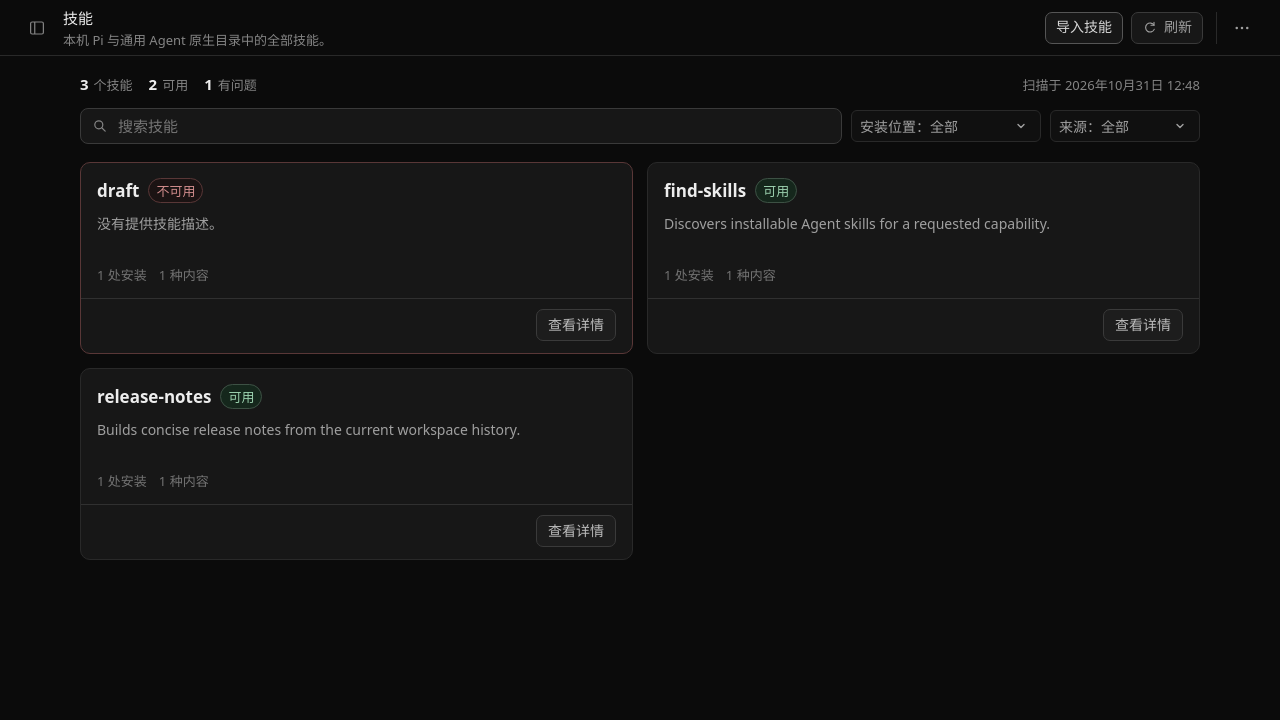
Test case: SkillsView management acceptance › keeps cards compact and moves metadata and locations into details
This screenshot has width=1280, height=720.
Check: the number of elements with class "skill-card" is 3, box [80,162,633,354]; [647,162,1200,354]; [80,368,633,560]
Check: the element with class "skill-card" shows "1 处安装", box [664,266,714,284]
Click the 2nd button "查看详情" at (1143, 325), box [1103,309,1183,341]
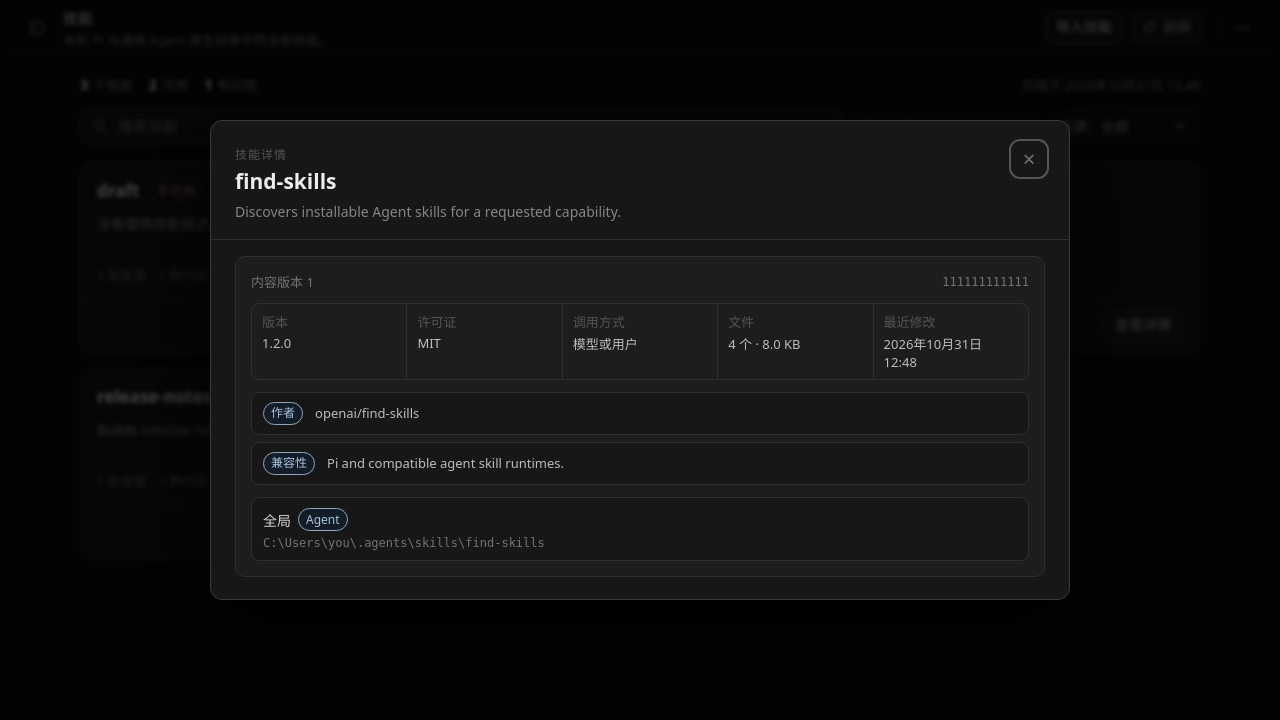
Check: the dialog with class "skill-detail-dialog" shows "1.2.0", box [262,334,291,352]
Check: the dialog with class "skill-detail-dialog" shows "MIT", box [417,334,441,352]
Check: the dialog with class "skill-detail-dialog" shows "4 个 · 8.0 KB", box [728,335,800,353]
Click the button "×" at (1029, 159), box [1013,143,1045,175]
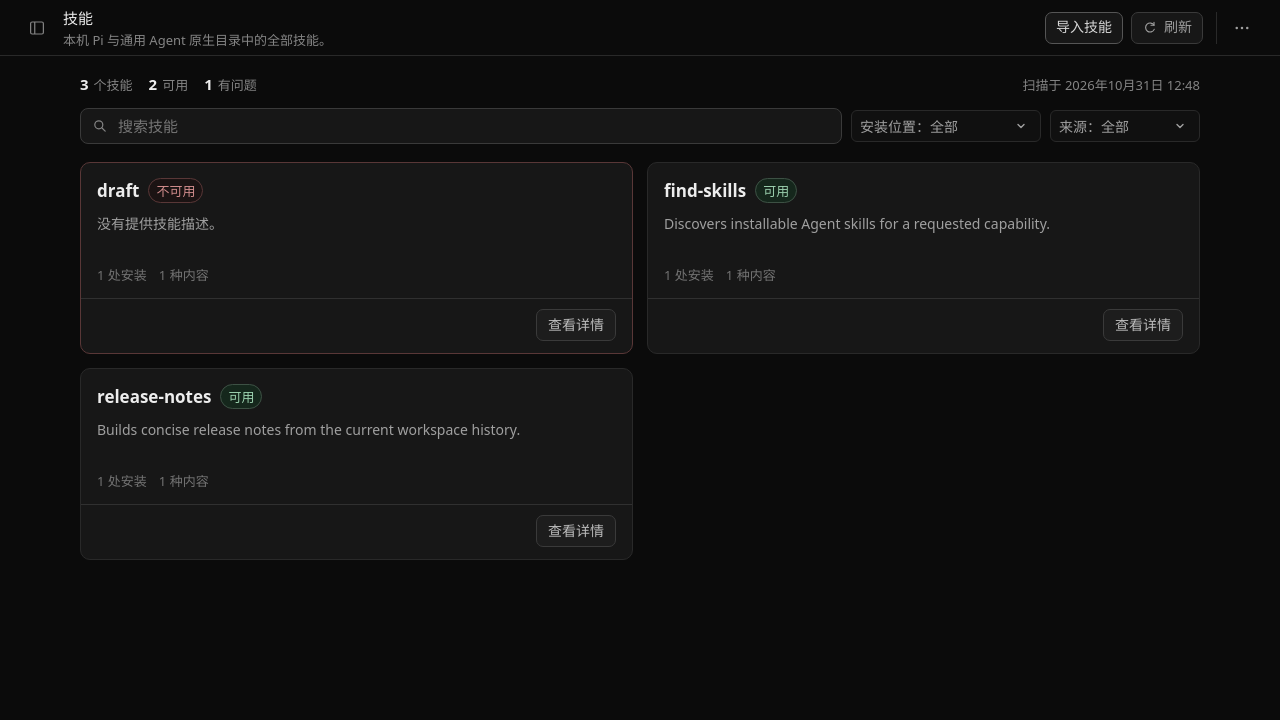
Type "release-notes" into the search field with placeholder "搜索技能" at (473, 126), box [116,115,830,137]
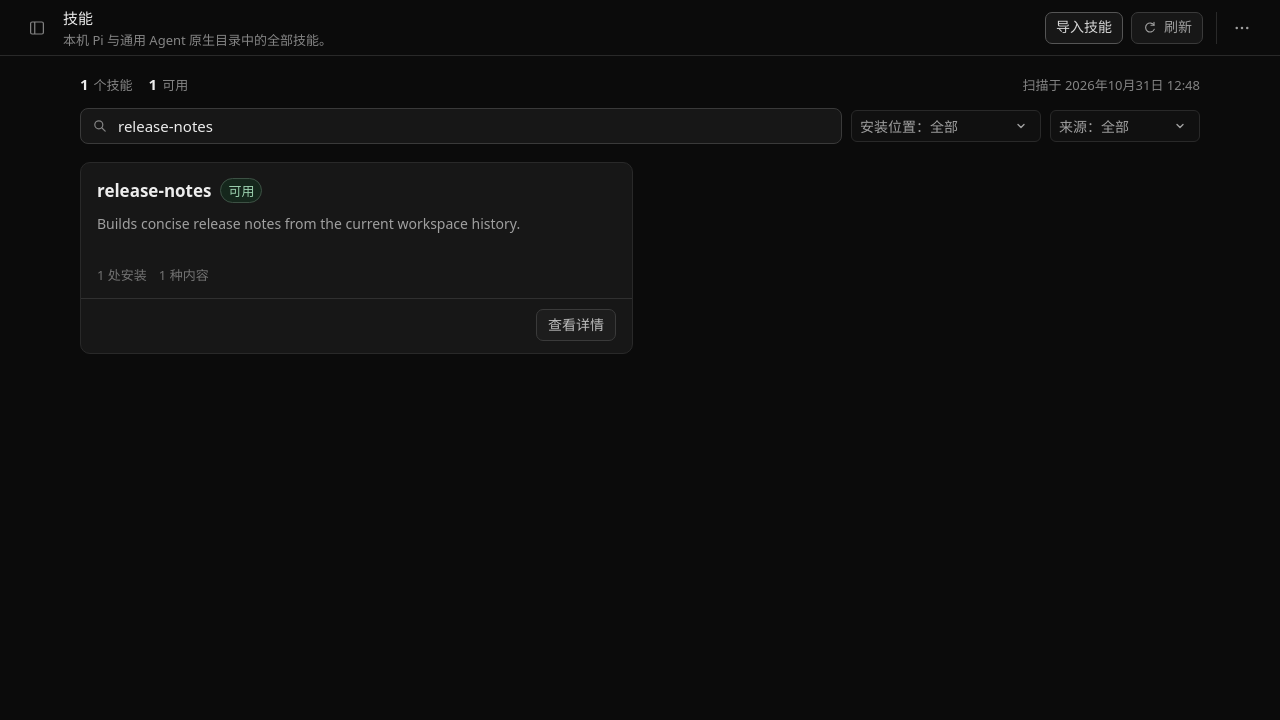
Check: the number of elements with class "skill-card" is 1, box [80,162,633,354]
